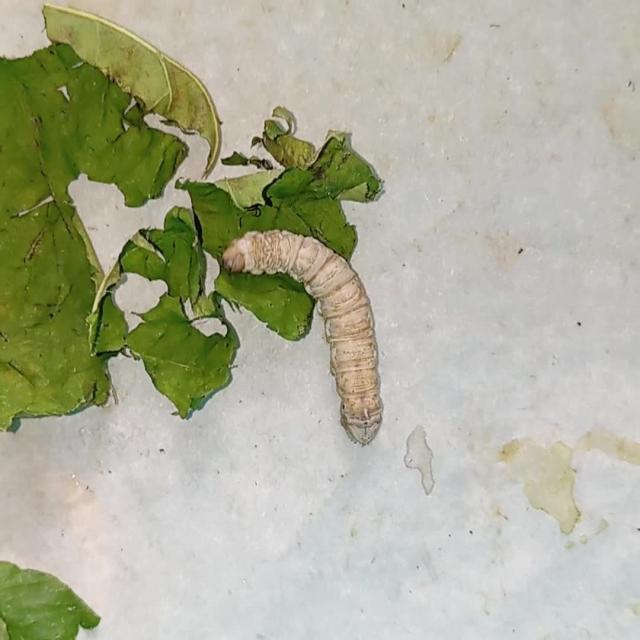Grasserie: (205, 199, 405, 456)
